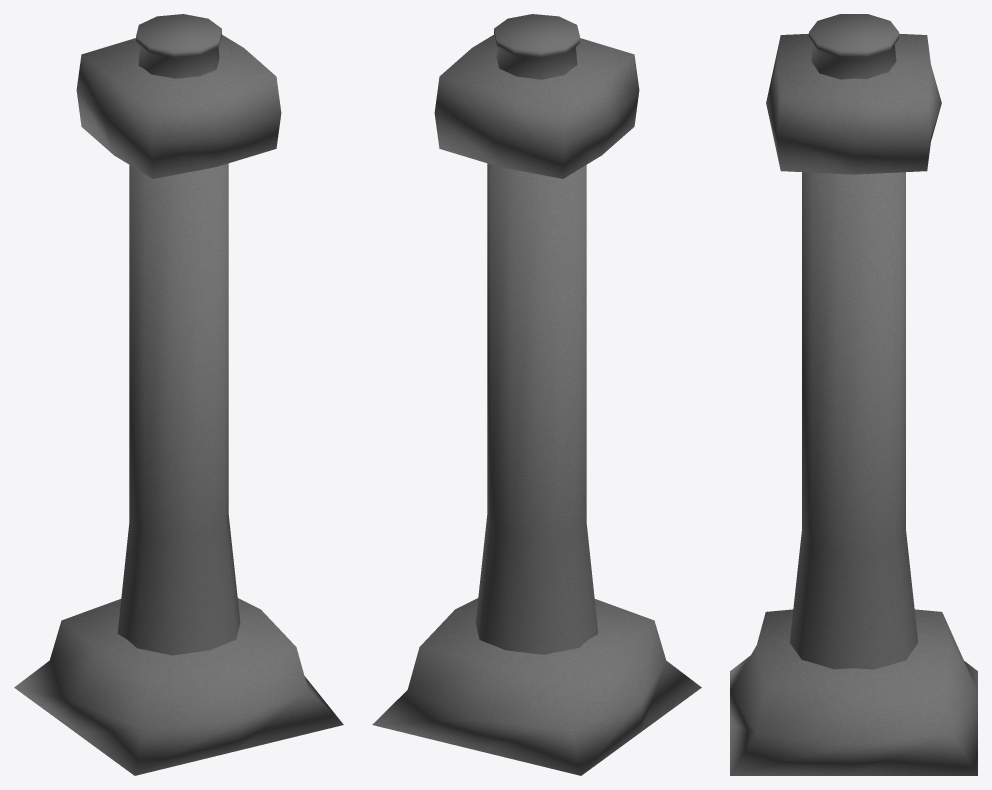
The model's file is FloorButton.fbx.
3 renders of one model, left to right at view 1: azimuth 30°, elevation 25°; view 2: azimuth 150°, elevation 25°; view 3: azimuth 270°, elevation 25°, orthographic. The views are drawn at different scales.
Visible parts, largest first — view 1: Piedestal, Button; view 2: Piedestal, Button; view 3: Piedestal, Button.
Part boxes in pixels (x1,y1,x2,y2): Piedestal: (14, 35, 343, 775); Button: (136, 14, 221, 78); Piedestal: (372, 35, 701, 775); Button: (494, 14, 579, 79); Piedestal: (730, 33, 977, 775); Button: (809, 14, 898, 79).
Bounding box in the file's own units: 32.92 × 101 × 32.92.
